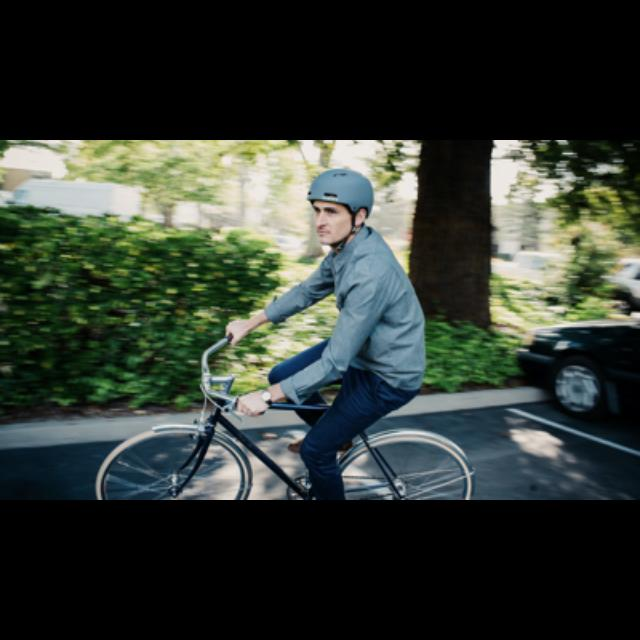With Helmet: (299, 164, 387, 248)
